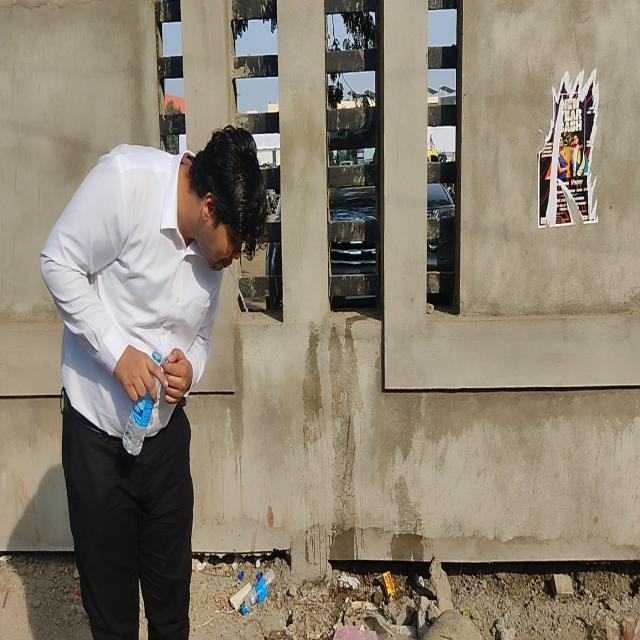spit: (189, 154, 347, 596)
